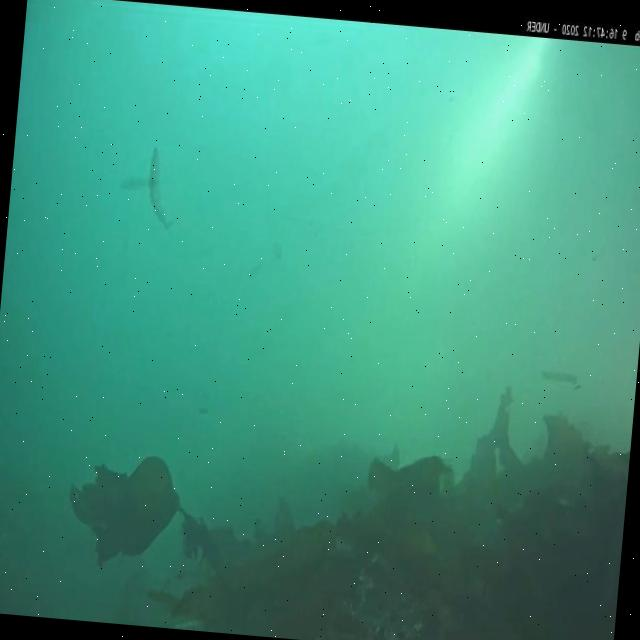fish: (144, 146, 179, 229)
